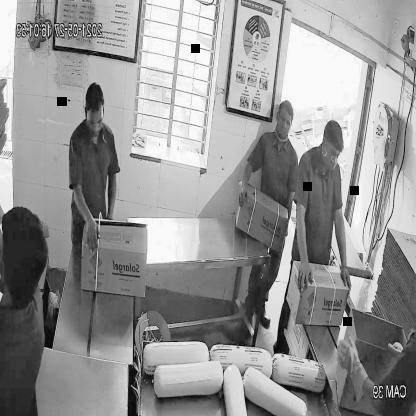no_goggles: (82, 108, 107, 130), (321, 142, 344, 164)
